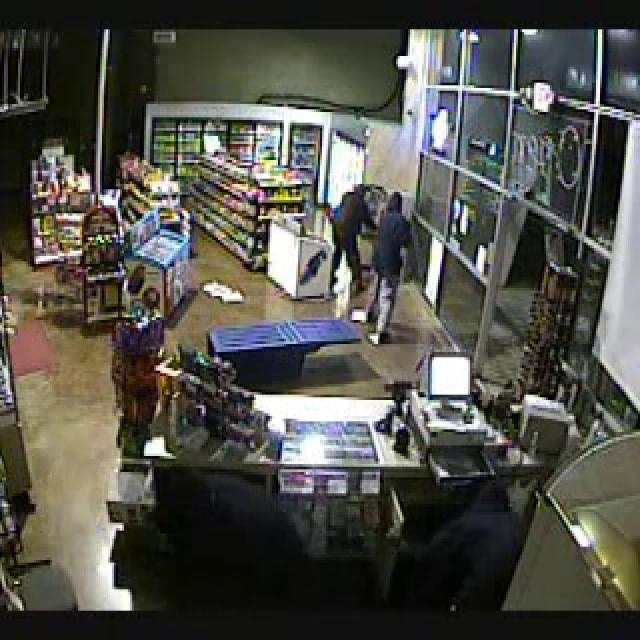burglary: (105, 118, 516, 415)
